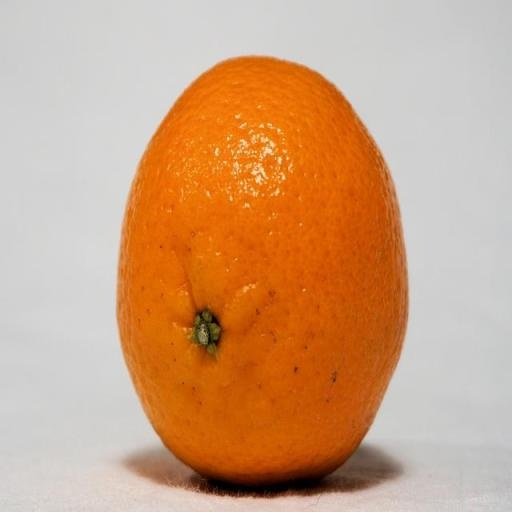fruit: (117, 58, 407, 484)
